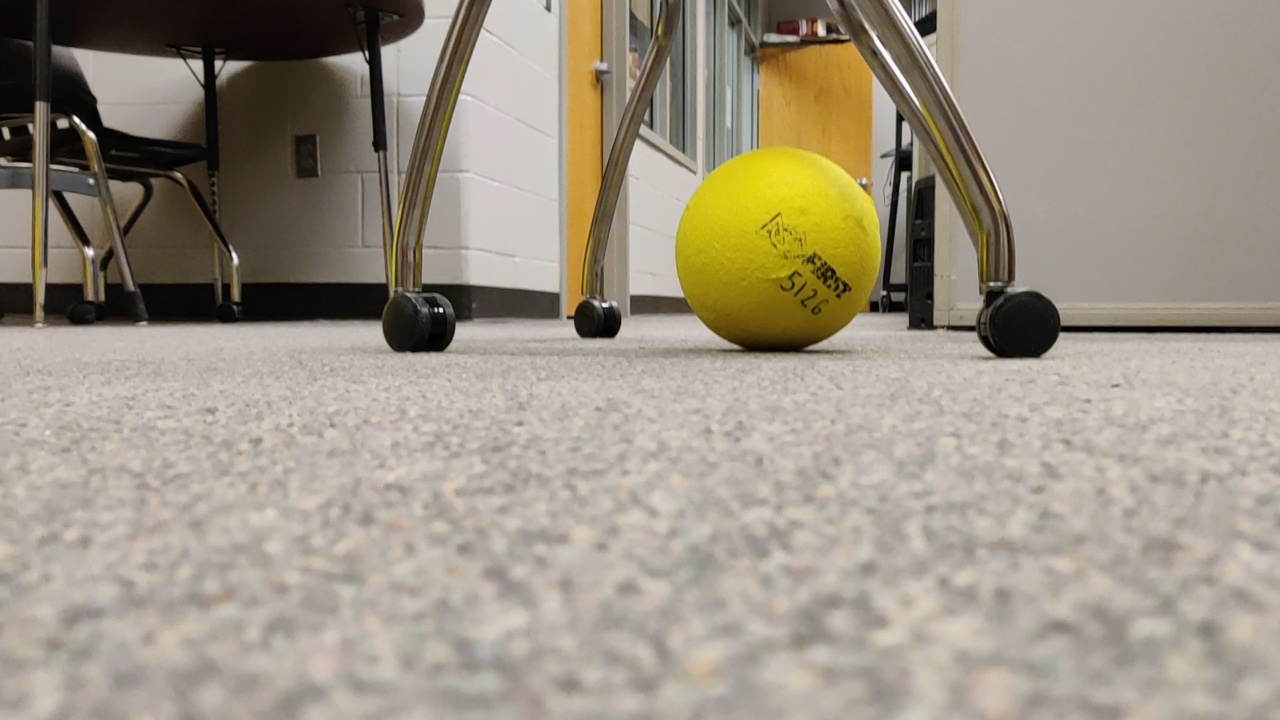Ball: (666, 140, 884, 359)
